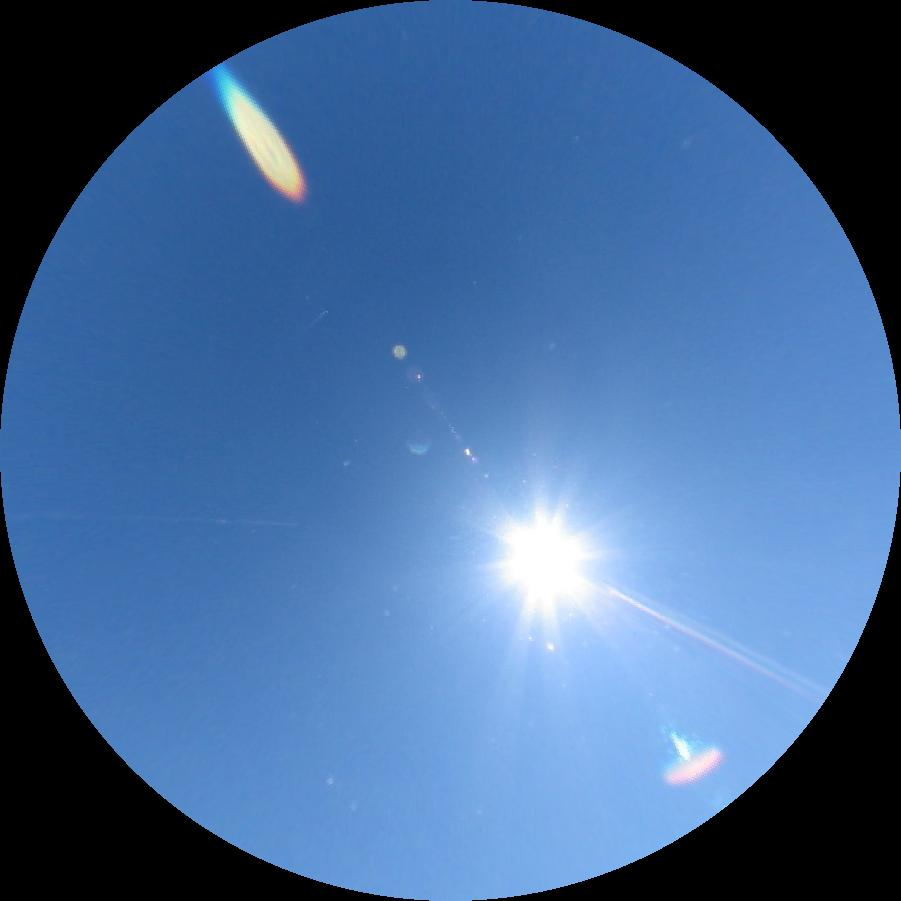contrail young: (308, 310, 328, 329)
parasite: (600, 578, 821, 704), (7, 511, 297, 527)
sun: (502, 511, 589, 616)
